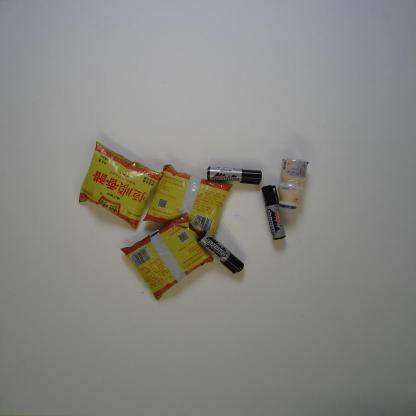Milk: (277, 156, 309, 210)
Seasoner: (120, 212, 214, 301), (78, 140, 164, 230), (143, 164, 233, 236)
Stationery: (196, 230, 244, 275), (261, 185, 286, 241), (206, 166, 262, 185)
